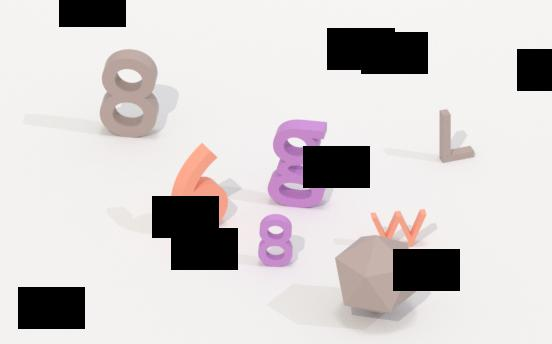6: (165, 140, 233, 235)
8: (96, 52, 161, 143), (252, 211, 299, 269)
dagiac: (333, 234, 419, 319)
g: (265, 115, 330, 211)
l: (436, 104, 485, 166)
w: (369, 208, 429, 250)
